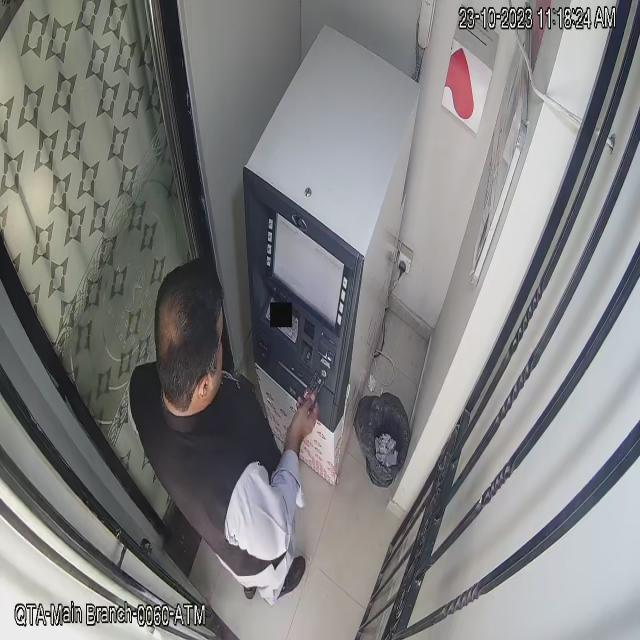atm-card: (302, 363, 331, 411)
